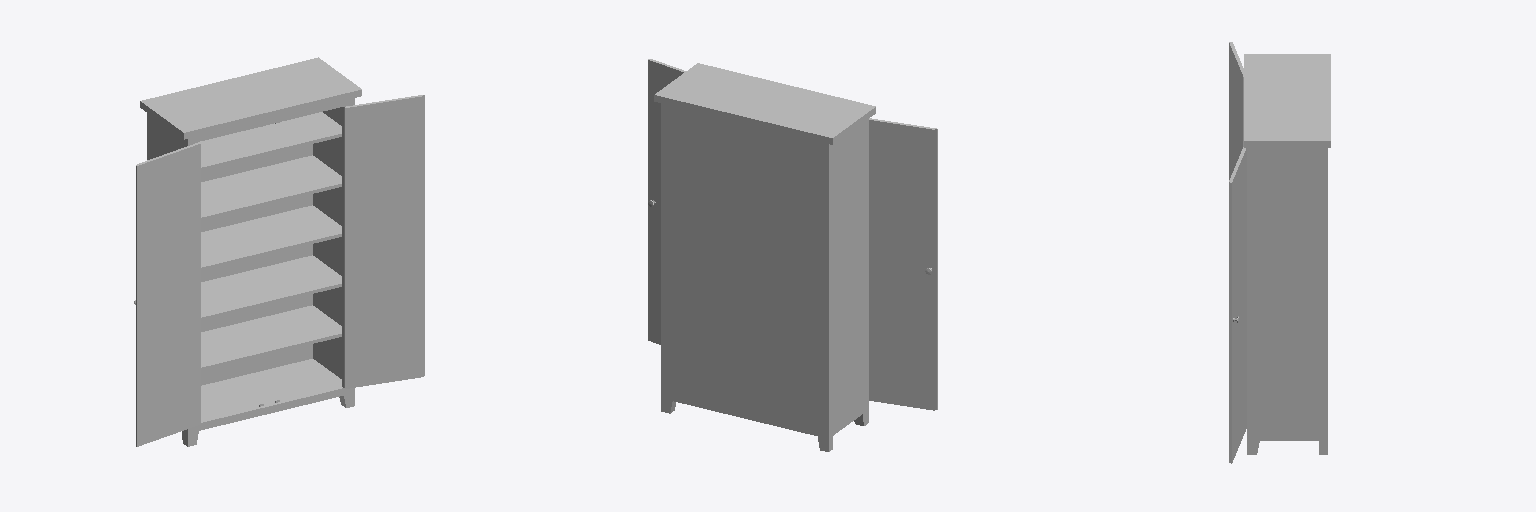
The model's file is estante.obj.
The picture shows the model from 3 angles: view 1: azimuth 30°, elevation 25°; view 2: azimuth 150°, elevation 25°; view 3: azimuth 270°, elevation 25°; orthographic projection.
Parts seen in each view (by area): view 1: Cupboard_L_01_Cube, Cupboard_L_01_door_L_Cube.002, Cupboard_L_01_door_R_Cube.003; view 2: Cupboard_L_01_Cube, Cupboard_L_01_door_R_Cube.003, Cupboard_L_01_door_L_Cube.002; view 3: Cupboard_L_01_Cube, Cupboard_L_01_door_L_Cube.002, Cupboard_L_01_door_R_Cube.003.
Part boxes in pixels (x1,y1,x2,y2): Cupboard_L_01_Cube: (140, 57, 361, 446); Cupboard_L_01_door_L_Cube.002: (344, 95, 424, 388); Cupboard_L_01_door_R_Cube.003: (134, 142, 200, 446); Cupboard_L_01_Cube: (654, 63, 875, 451); Cupboard_L_01_door_R_Cube.003: (869, 118, 937, 410); Cupboard_L_01_door_L_Cube.002: (648, 59, 685, 344); Cupboard_L_01_Cube: (1244, 54, 1330, 454); Cupboard_L_01_door_L_Cube.002: (1229, 147, 1246, 463); Cupboard_L_01_door_R_Cube.003: (1229, 42, 1243, 179).
Size of the model in its own units: 1.81 by 1.9 by 0.5558.